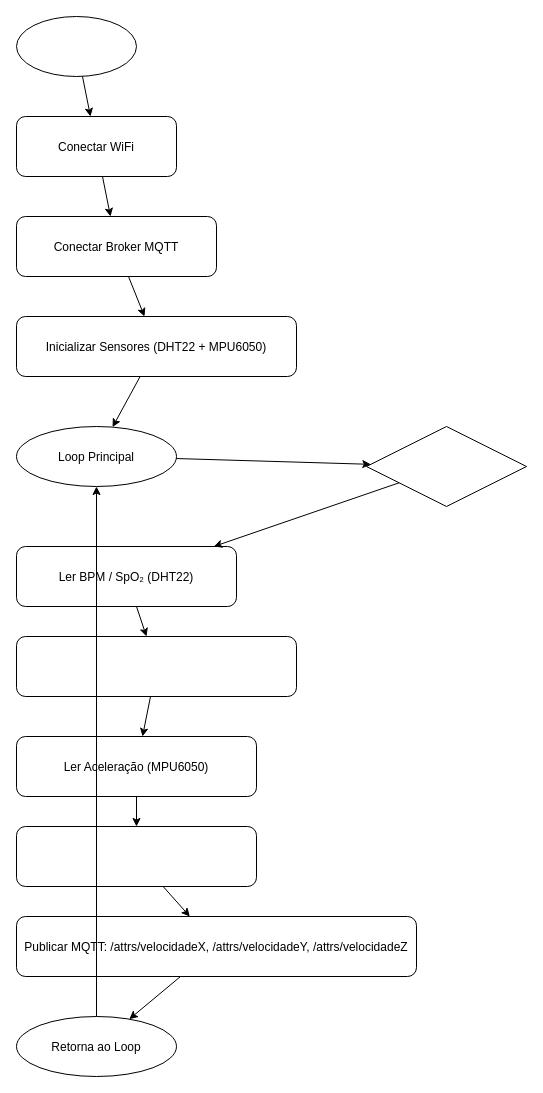
Some shapes in this 543 by 1093 pixel diagram are drawn without their labels. The shapes that lost their labels are listed below. From the top down, each one's centre as x and y in pixels, then its label:
(76,46): Início
(446,466): MQTT conectado?
(156,666): Publicar MQTT: /attrs/bpm, /attrs/spo2
(136,856): Calcular Velocidade (X, Y, Z)
